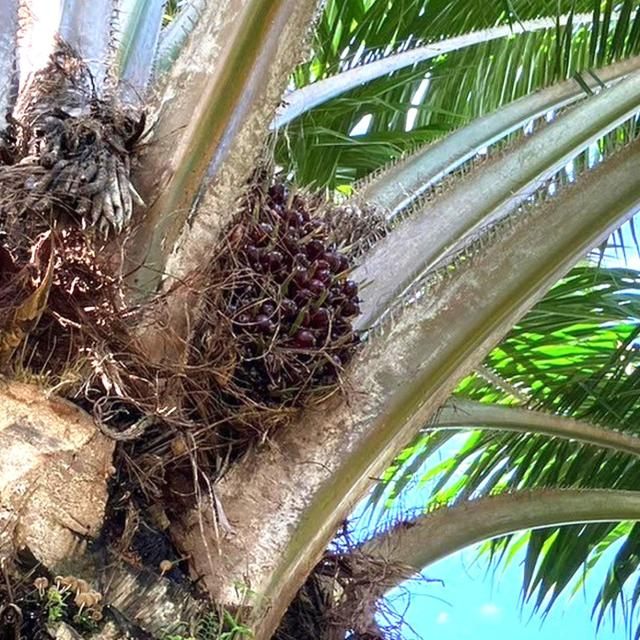ripe: (216, 181, 356, 401)
